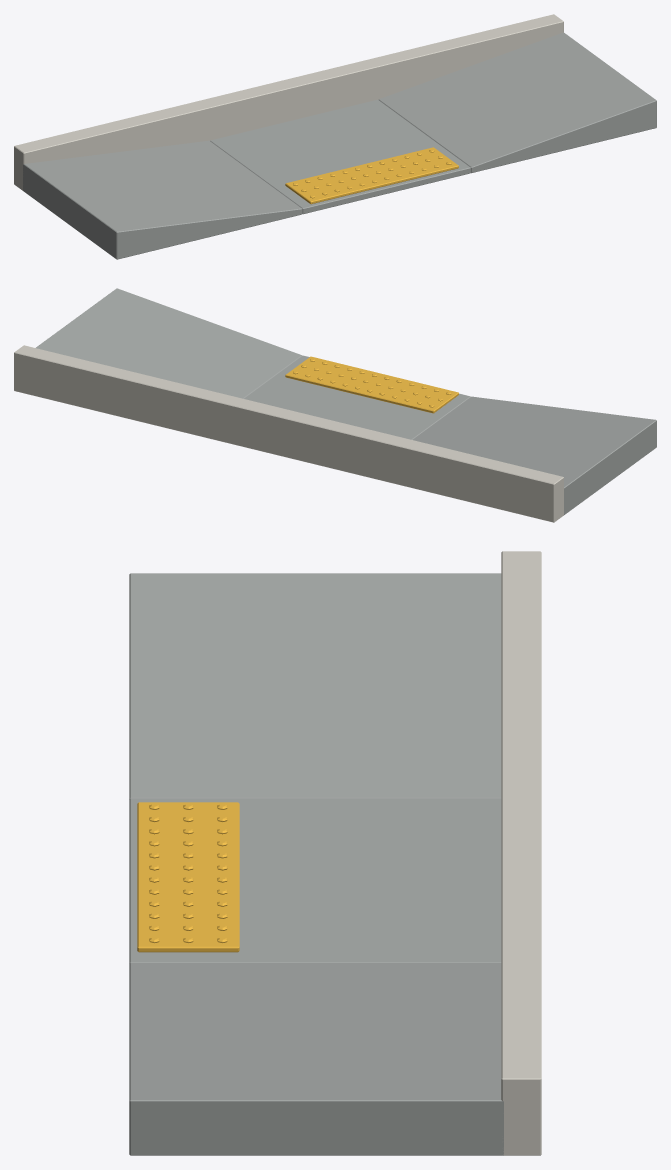
File: b13_parallel_depressed_curb_ramp.glb
The picture shows the model from 3 angles, top to bottom: view 1: azimuth 30°, elevation 25°; view 2: azimuth 150°, elevation 25°; view 3: azimuth 270°, elevation 25°; orthographic projection. The views are drawn at different scales.
Parts seen in each view (by area): view 1: b13_parallel_depressed_curb_ramp; view 2: b13_parallel_depressed_curb_ramp; view 3: b13_parallel_depressed_curb_ramp.
Part boxes in pixels (box(x1,y1,x2,y2)): b13_parallel_depressed_curb_ramp: box(14, 14, 656, 259); b13_parallel_depressed_curb_ramp: box(14, 288, 656, 522); b13_parallel_depressed_curb_ramp: box(129, 551, 541, 1155).
Bounding box in the file's own units: 4.65 × 0.32 × 1.53.
